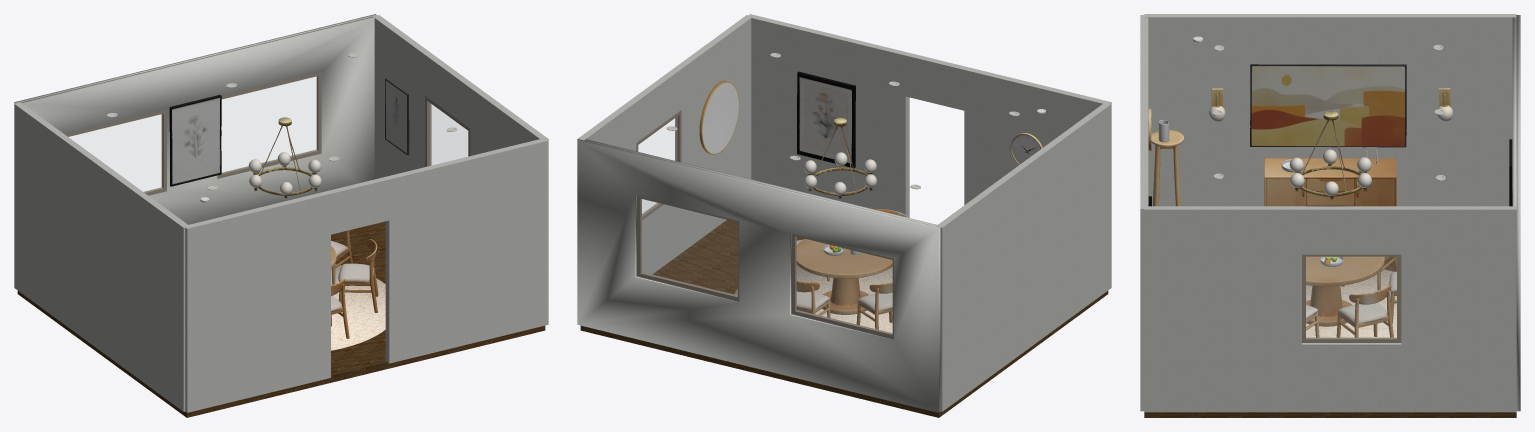
The model's file is scene_web.glb.
The picture shows the model from 3 angles, left to right: view 1: azimuth 30°, elevation 25°; view 2: azimuth 150°, elevation 25°; view 3: azimuth 270°, elevation 25°; orthographic projection. The views are drawn at different scales.
Parts seen in each view (by area): view 1: geometry_0.003, geometry_0.007, geometry_0, geometry_0.004, glass.001, Mesh_0, geometry_0.023, glass, Mesh_0.001, glass.002, geometry_0.025, geometry_0.024 (+9 smaller); view 2: geometry_0.001, geometry_0.007, geometry_0.002, geometry_0.004, glass, glass.001, Mesh_0, geometry_0.021, geometry_0.008, geometry_0.020, Mesh_0.001, geometry_0.025 (+11 smaller); view 3: geometry_0.005, geometry_0.006, geometry_0.017, glass.002, geometry_0.016, geometry_0.008, Mesh_0, geometry_0.001, geometry_0.003, geometry_0.025, Mesh_0.001, geometry_0.011 (+8 smaller).
Part boxes in pixels (left/top/right/bottom): geometry_0.003: left=185, top=139, right=548, bottom=412; geometry_0.007: left=14, top=103, right=186, bottom=411; geometry_0: left=21, top=16, right=374, bottom=224; geometry_0.004: left=373, top=16, right=544, bottom=179; glass.001: left=221, top=77, right=316, bottom=172; Mesh_0: left=17, top=221, right=545, bottom=417; geometry_0.023: left=169, top=95, right=221, bottom=186; glass: left=69, top=114, right=162, bottom=191; Mesh_0.001: left=331, top=264, right=385, bottom=350; glass.002: left=429, top=103, right=467, bottom=165; geometry_0.025: left=248, top=117, right=321, bottom=198; geometry_0.024: left=385, top=78, right=409, bottom=155; geometry_0.001: left=577, top=139, right=940, bottom=412; geometry_0.007: left=939, top=103, right=1111, bottom=411; geometry_0.002: left=751, top=16, right=1104, bottom=216; geometry_0.004: left=581, top=16, right=752, bottom=274; glass: left=796, top=237, right=892, bottom=333; glass.001: left=641, top=199, right=737, bottom=295; Mesh_0: left=580, top=219, right=1108, bottom=417; geometry_0.021: left=797, top=71, right=855, bottom=167; geometry_0.008: left=796, top=239, right=892, bottom=314; geometry_0.020: left=699, top=80, right=739, bottom=154; Mesh_0.001: left=734, top=264, right=892, bottom=332; geometry_0.025: left=804, top=118, right=876, bottom=198; geometry_0.005: left=1144, top=208, right=1516, bottom=412; geometry_0.006: left=1144, top=15, right=1516, bottom=206; geometry_0.017: left=1250, top=64, right=1406, bottom=147; glass.002: left=1306, top=257, right=1396, bottom=337; geometry_0.016: left=1264, top=158, right=1396, bottom=206; geometry_0.008: left=1306, top=256, right=1384, bottom=326; Mesh_0: left=1144, top=256, right=1516, bottom=417; geometry_0.001: left=1516, top=15, right=1520, bottom=411; geometry_0.003: left=1140, top=15, right=1144, bottom=411; geometry_0.025: left=1289, top=111, right=1371, bottom=199; Mesh_0.001: left=1306, top=269, right=1396, bottom=337; geometry_0.011: left=1336, top=284, right=1394, bottom=337.
Size of the model in its own units: 5.6 by 2.8 by 4.6.
Materials: 26 (24 with a texture image).
